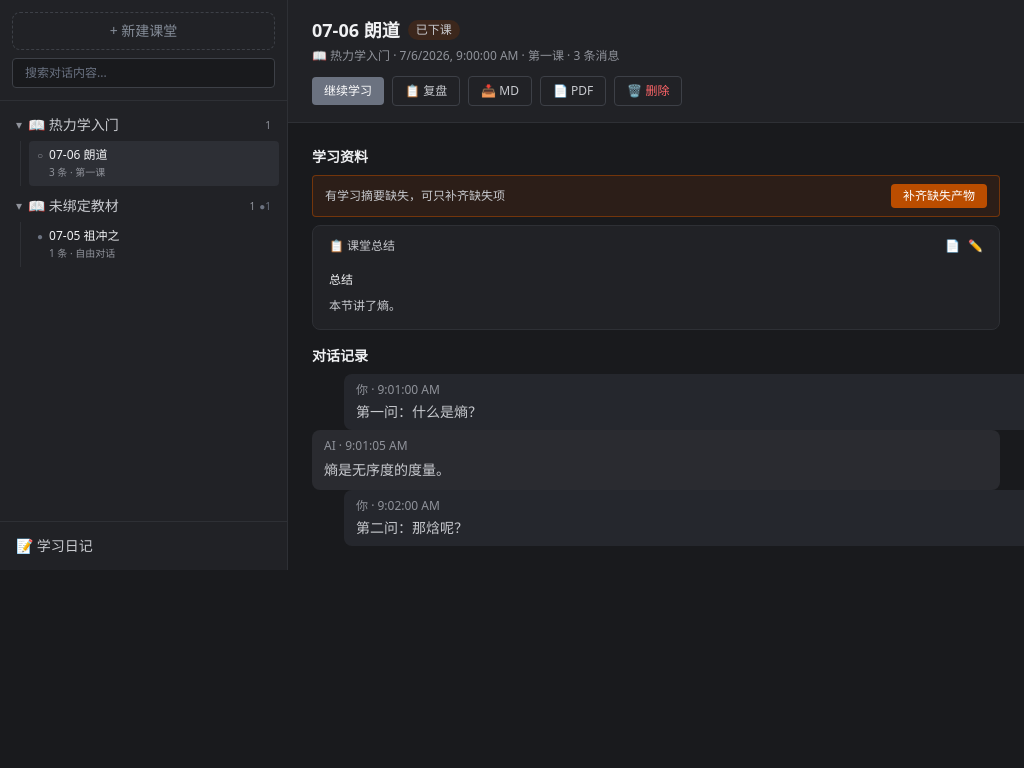
Test: HistoryView — search › loads more results when the total exceeds the page
The image size is (1024, 768).
Check: the text "第一问：什么是熵？" is shown, box [356,402,482,421]
Type "结果" into the field with placeholder "搜索对话内容...".
click(144, 73); type("结果")  # box [12,58,275,88]
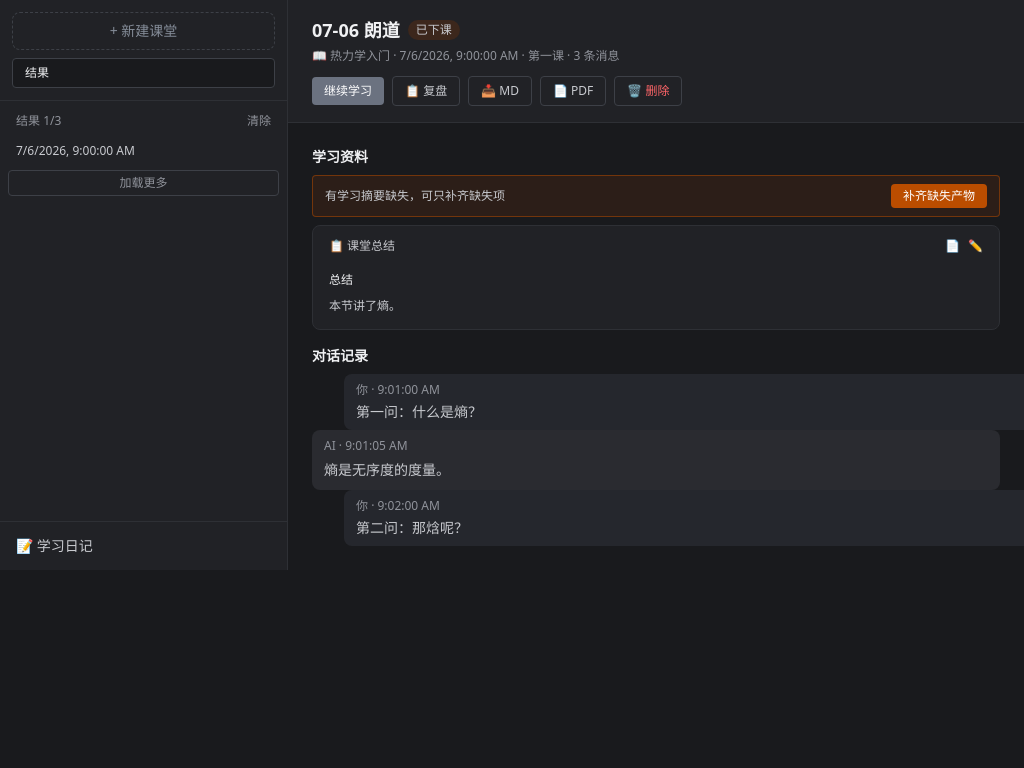
Check: the text "结果 1/3" is shown, box [16,113,61,129]
Click the button "加载更多".
click(144, 183)  # box [8,170,279,196]
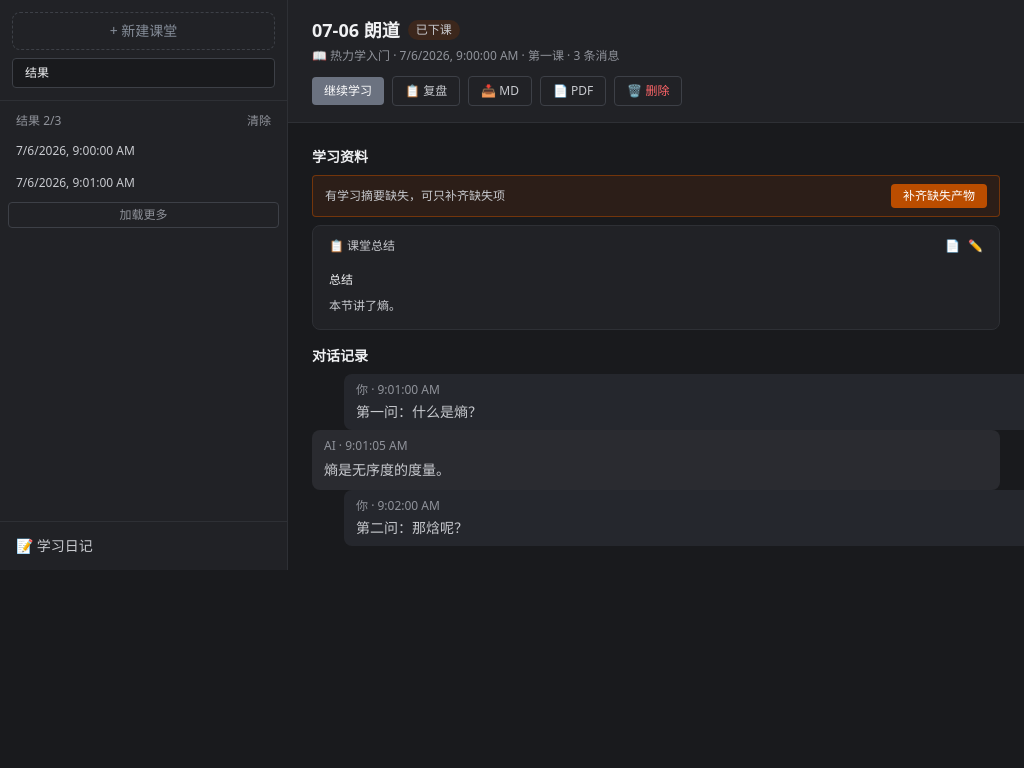
Check: the text "结果 2/3" is shown, box [16,113,61,129]
